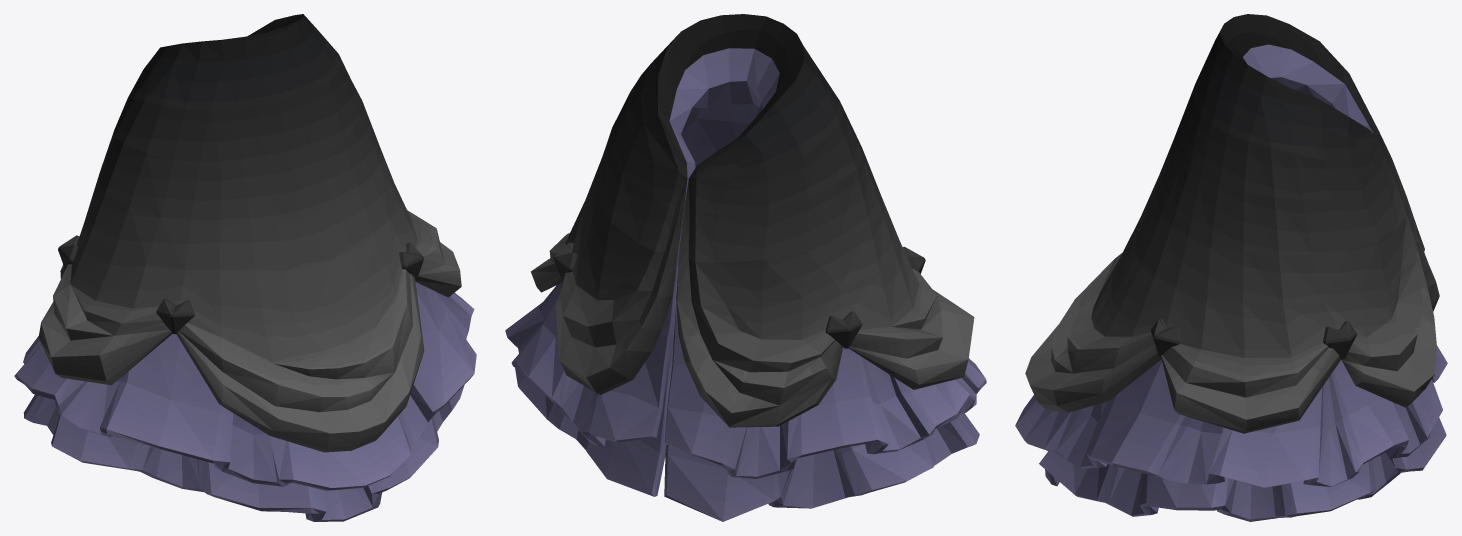
Rendered from CharSkyKid_Wing_MischiefGoth.glb.
3 renders of one model, left to right at view 1: azimuth 30°, elevation 25°; view 2: azimuth 150°, elevation 25°; view 3: azimuth 270°, elevation 25°, orthographic. The views are drawn at different scales.
Parts seen in each view (by area): view 1: CharSkyKid_Wing_MischiefGoth; view 2: CharSkyKid_Wing_MischiefGoth; view 3: CharSkyKid_Wing_MischiefGoth.
Boxes of the visible parts, x1,y1,x2,y2 form: CharSkyKid_Wing_MischiefGoth: [14, 14, 476, 521]; CharSkyKid_Wing_MischiefGoth: [505, 14, 986, 521]; CharSkyKid_Wing_MischiefGoth: [1015, 14, 1447, 521].
Size of the model in its own units: 7.17 by 6.89 by 6.08.
1 material, 1 textured.
